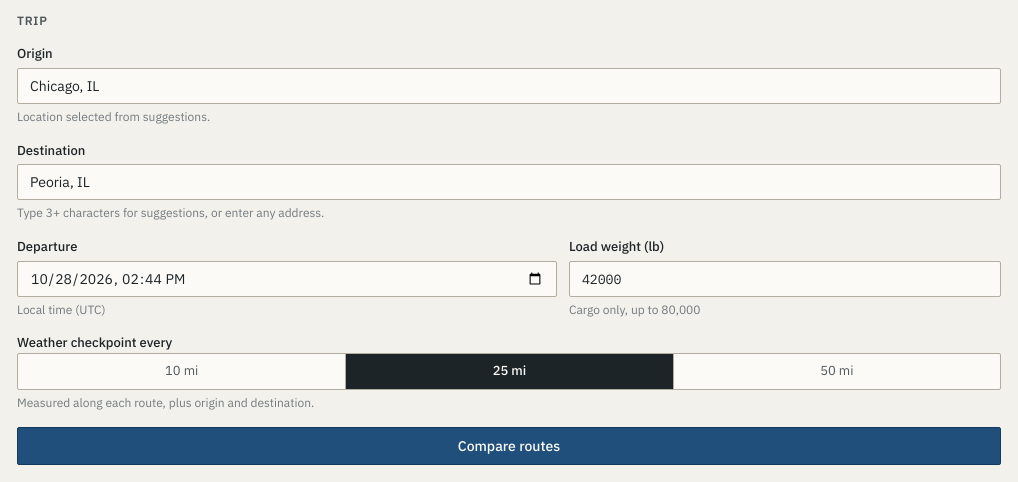
Test: PlanForm › rejects departures more than 7 days ahead
Click the button "Compare routes": (509, 446) [17,427,1001,465]
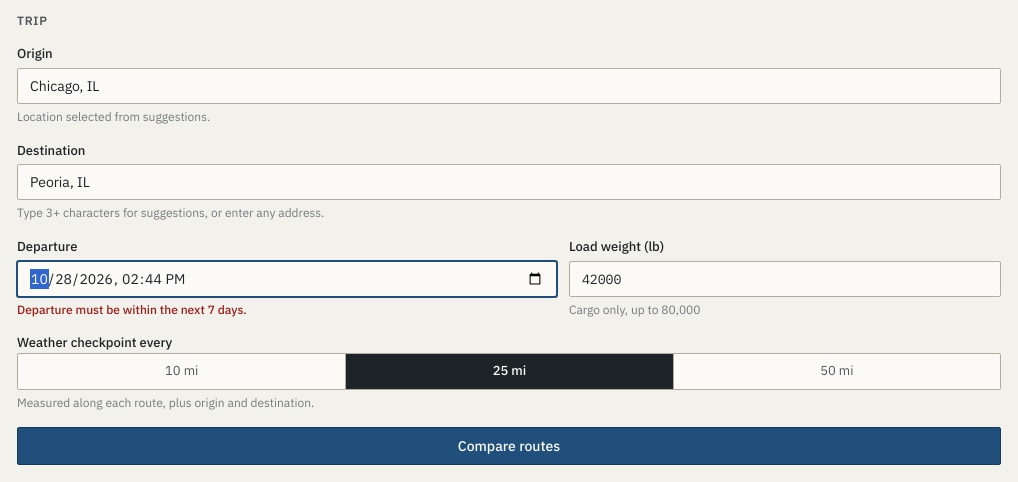
Now the text "Departure must be within the next 7 days." is shown, box [17,302,247,317]
